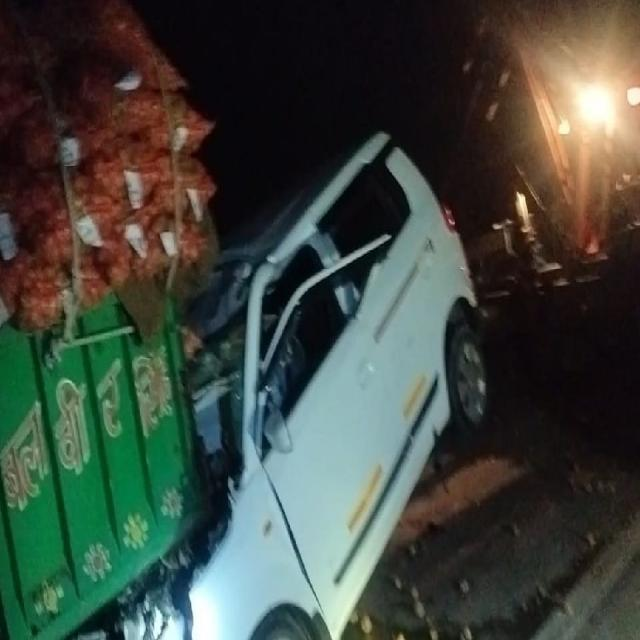accident: (124, 133, 489, 639)
